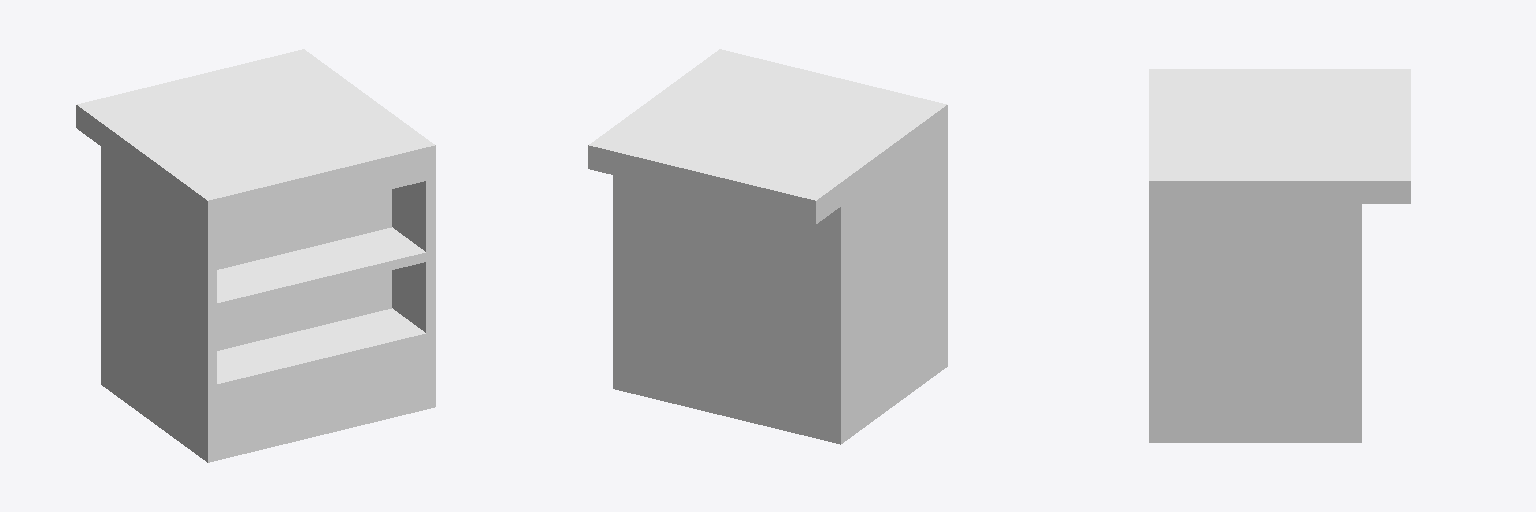
File: Counter_Normal.obj
3 views of the same model, side by side, from view 1: azimuth 30°, elevation 25°; view 2: azimuth 150°, elevation 25°; view 3: azimuth 270°, elevation 25° (orthographic).
Parts seen in each view (by area): view 1: object 1; view 2: object 1; view 3: object 1.
Part boxes in pixels (x1,y1,x2,y2): object 1: (76, 49, 435, 462); object 1: (588, 49, 947, 444); object 1: (1149, 69, 1410, 442).
Size of the model in its own units: 10 by 11 by 10.